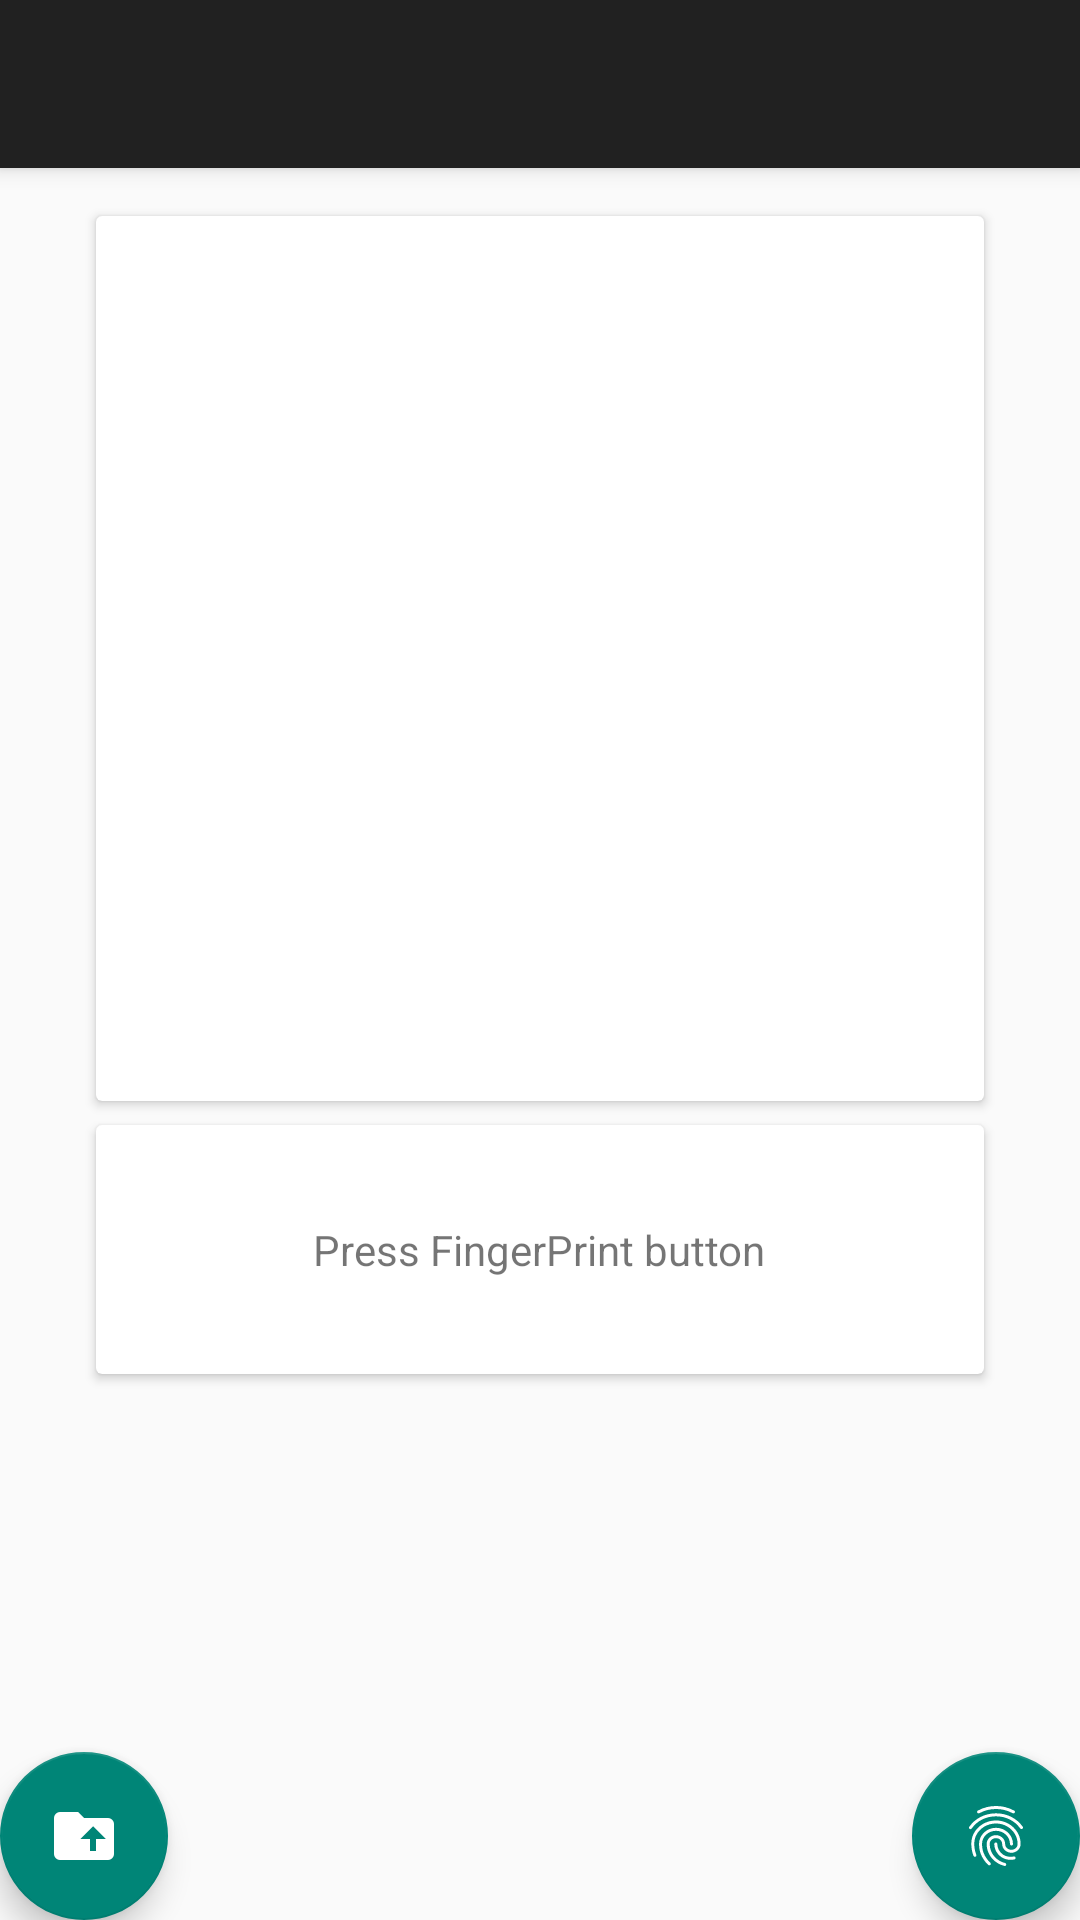

Point at icon controls on the screen. Image size 1080*1920, points as (x,y).
fingerprint: (996,1836)
folder upload: (84,1836)
